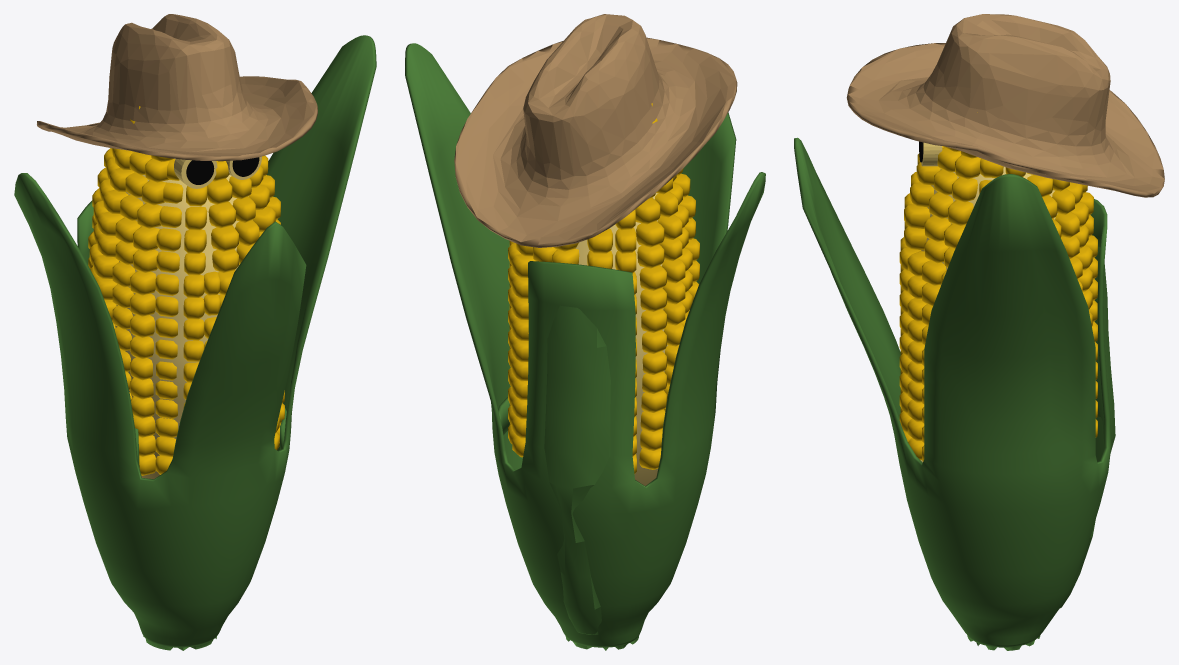
File: CornNPC.fbx
3 renders of one model, left to right at view 1: azimuth 30°, elevation 25°; view 2: azimuth 150°, elevation 25°; view 3: azimuth 270°, elevation 25°, orthographic.
Parts seen in each view (by area): view 1: EarOfCorn_220; view 2: EarOfCorn_220; view 3: EarOfCorn_220.
Boxes of the visible parts, <box> form: EarOfCorn_220: <box>14,14,376,650</box>; EarOfCorn_220: <box>405,14,765,650</box>; EarOfCorn_220: <box>794,14,1164,650</box>.
Size of the model in its own units: 249 by 411 by 226.
